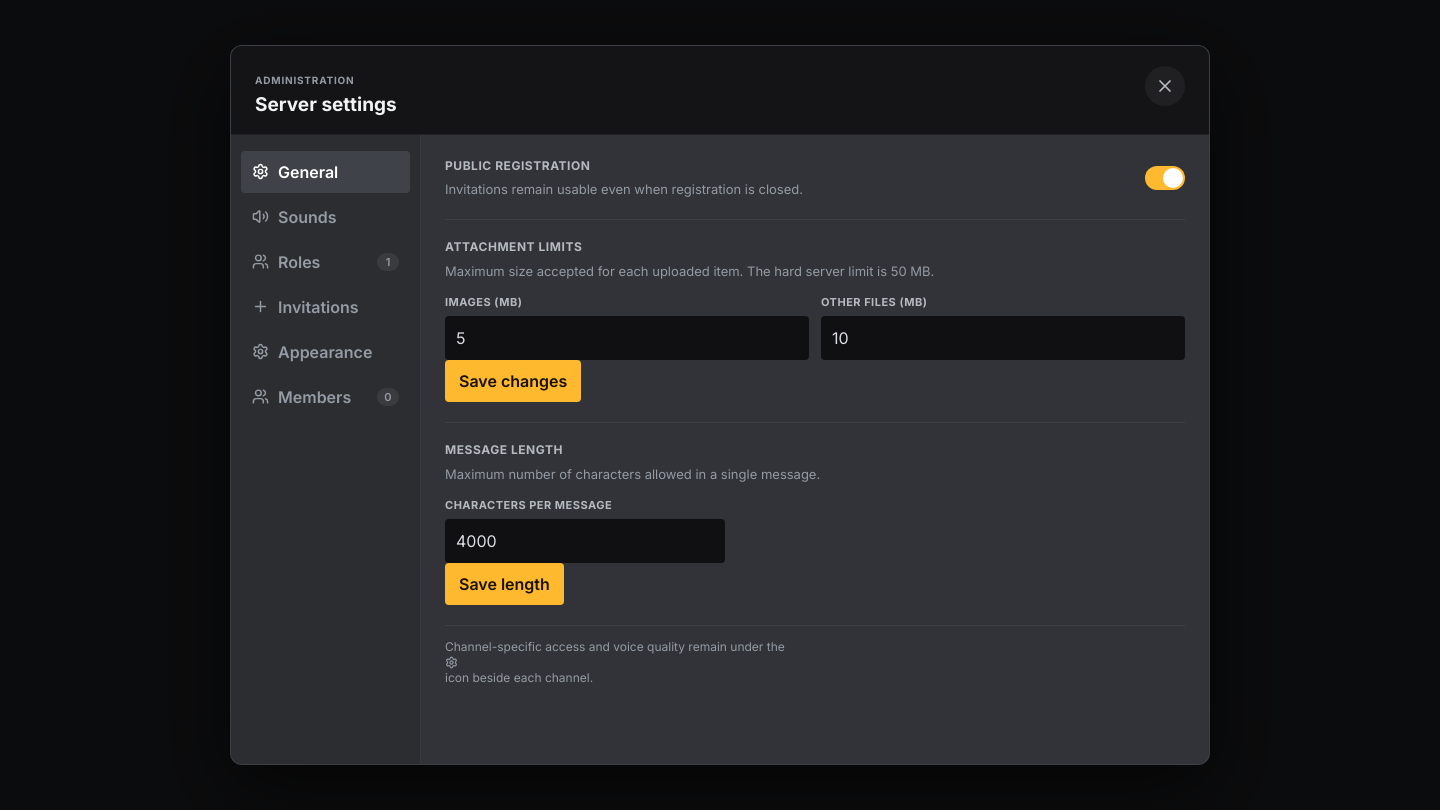
it: AdminPanel roles › reflects an existing role's color and checked capabilities when editing
Click the button "Roles 1": (326,262) [241,241,410,283]
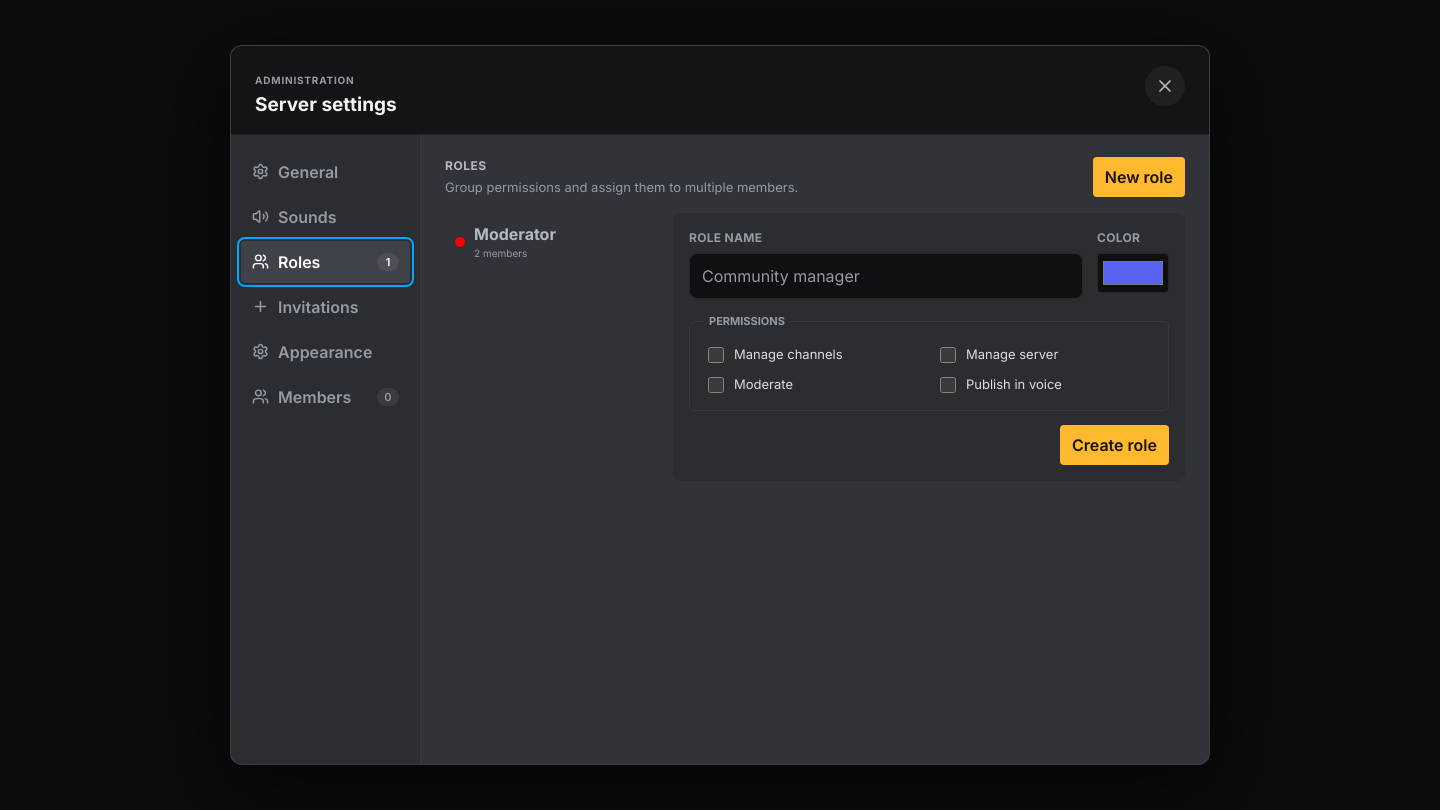
Click the button "Moderator 2 members": (550,242) [445,213,655,270]
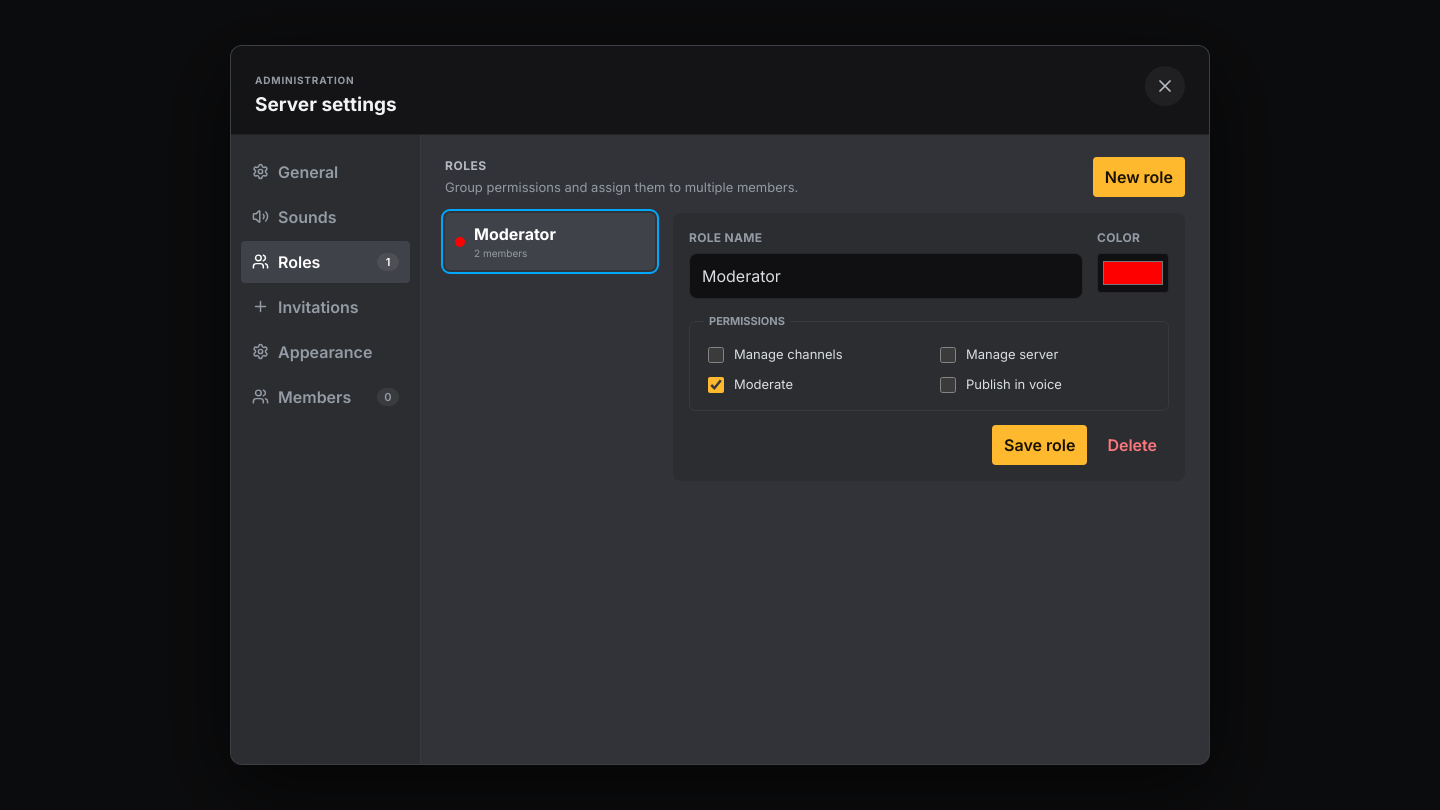
Expected: the checkbox labelled "Manage channels" is not checked, [708,347,724,363]
Expected: the colour field labelled "Color" holds "#ff0000", [1097,253,1169,293]
Expected: the checkbox labelled "Moderate" is checked, [708,377,724,393]
